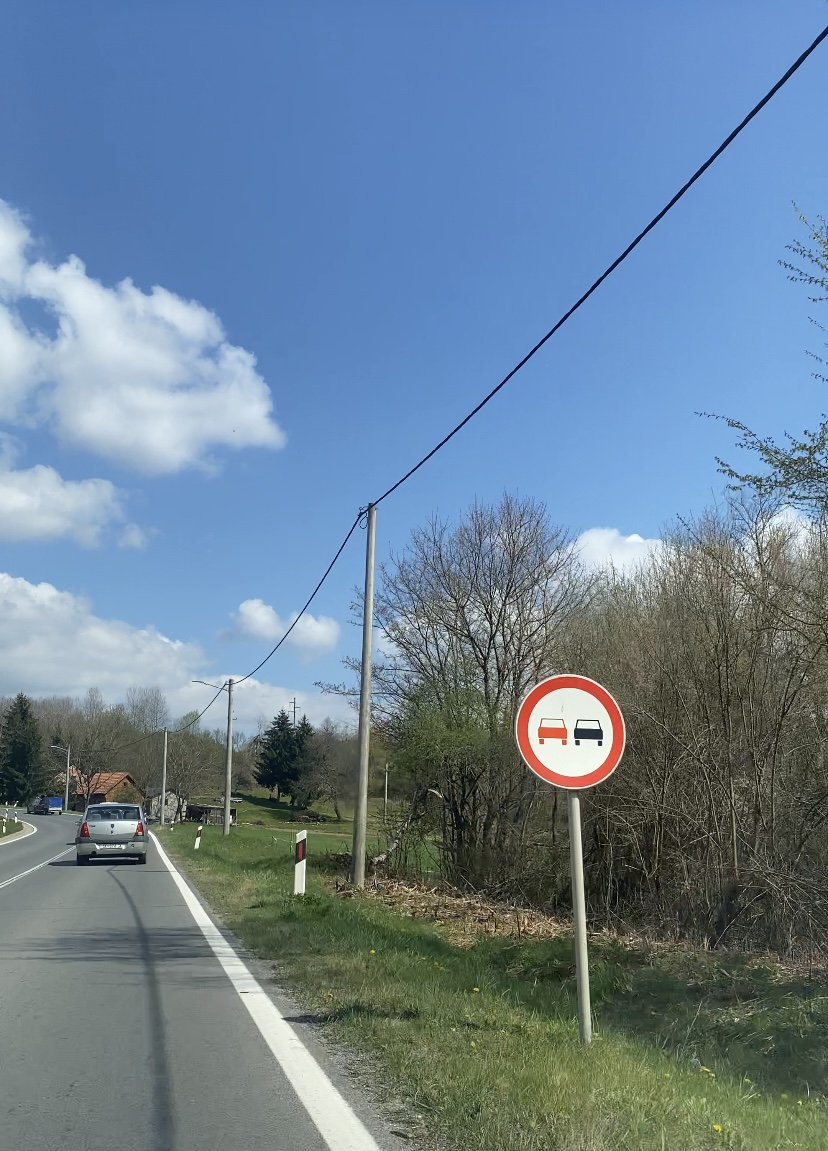Zabrana pretjecanja: (514, 673, 626, 790)
